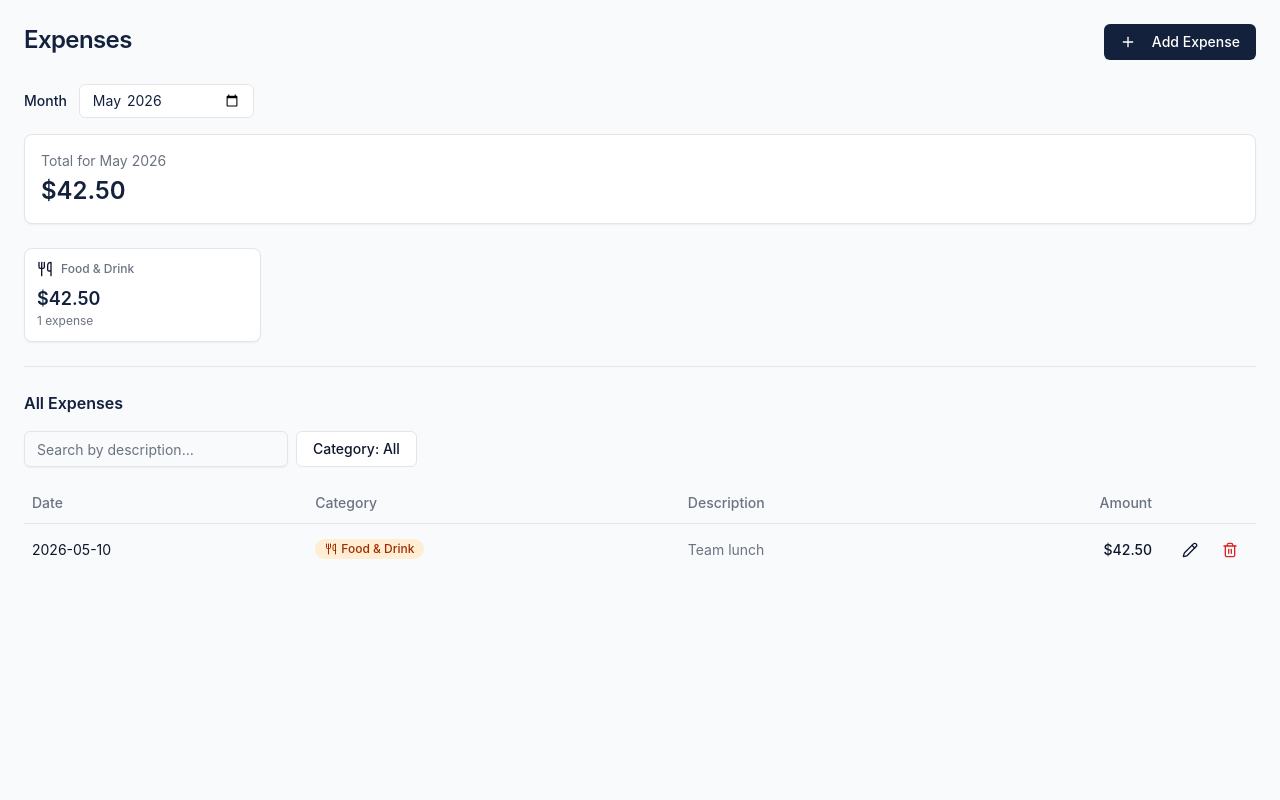
it: ExpensesPage › closes the form sheet when cancel is clicked
Click the button with test id "btn-new-expense" at (1180, 42), box left=1104, top=24, right=1256, bottom=60
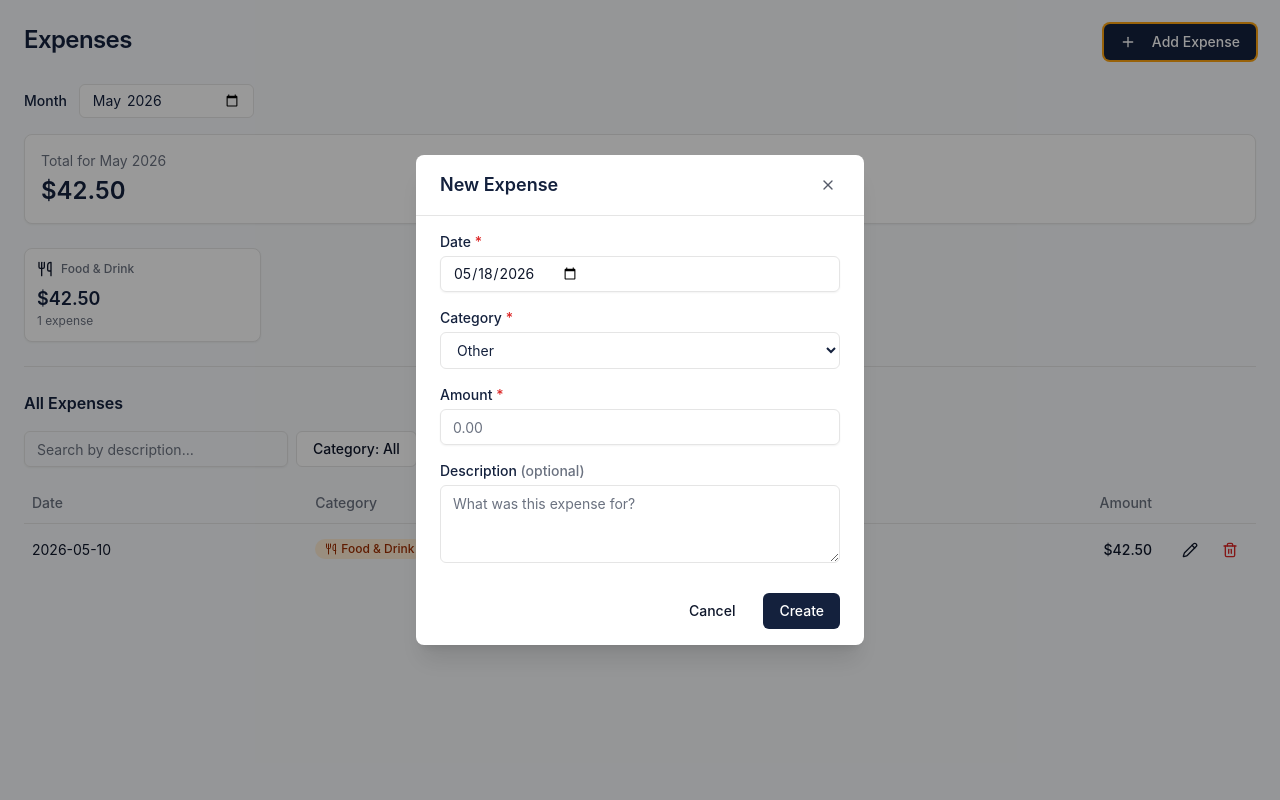
Check: the dialog with test id "expense-form-sheet" is shown, box left=416, top=155, right=864, bottom=645
Click the button with test id "btn-cancel" at (712, 611), box left=673, top=593, right=751, bottom=629
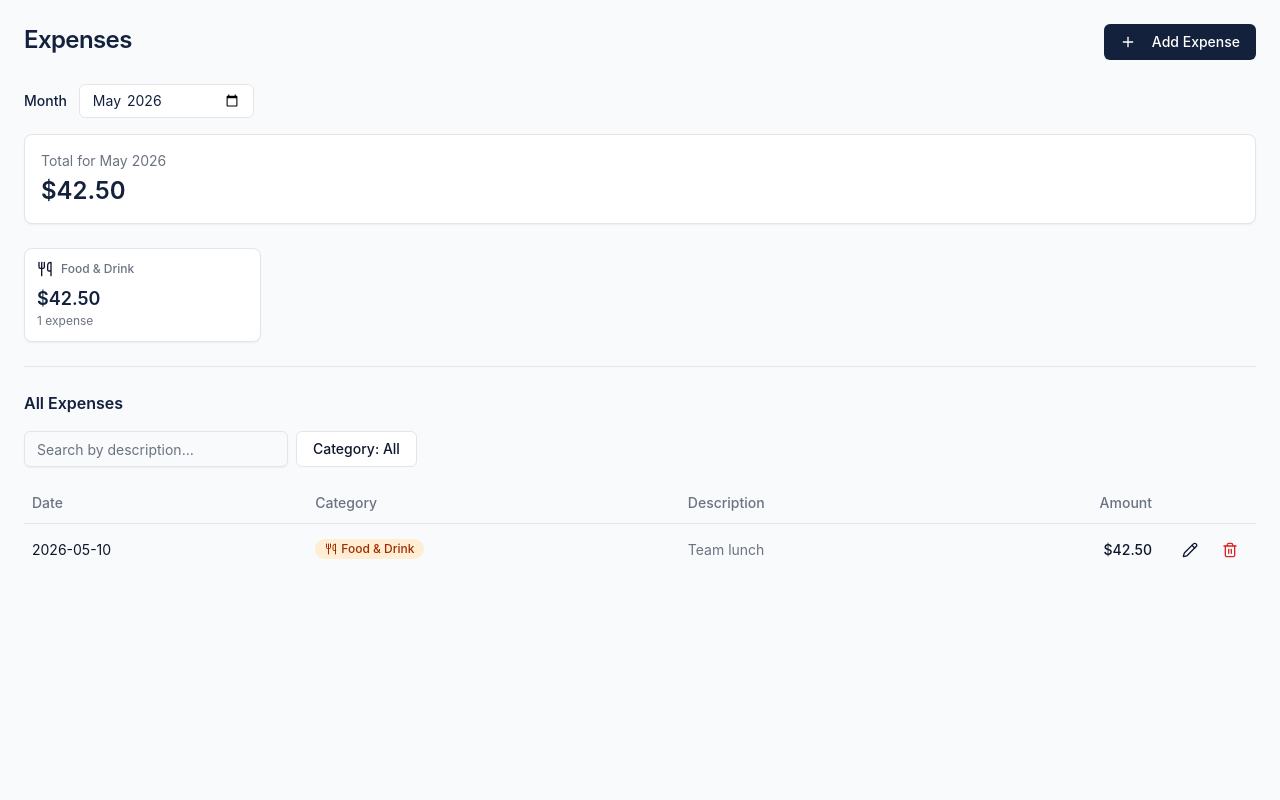
Check: the dialog with test id "expense-form-sheet" is gone
